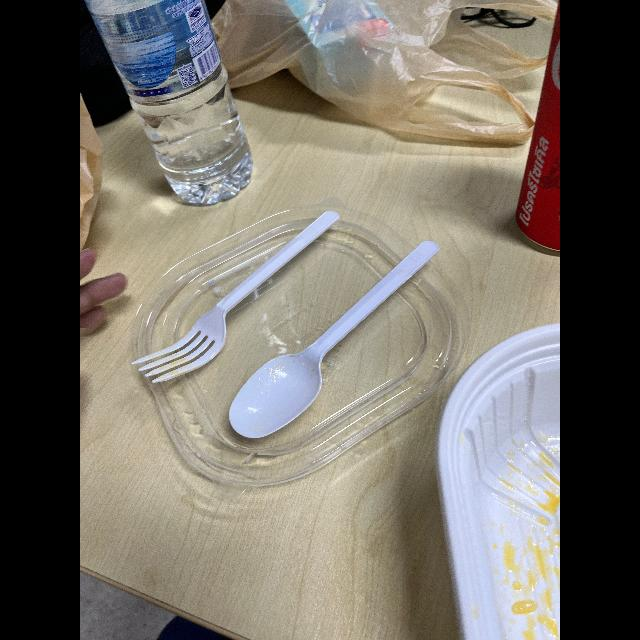plastic_cultery: (224, 227, 441, 449), (130, 200, 342, 388)
